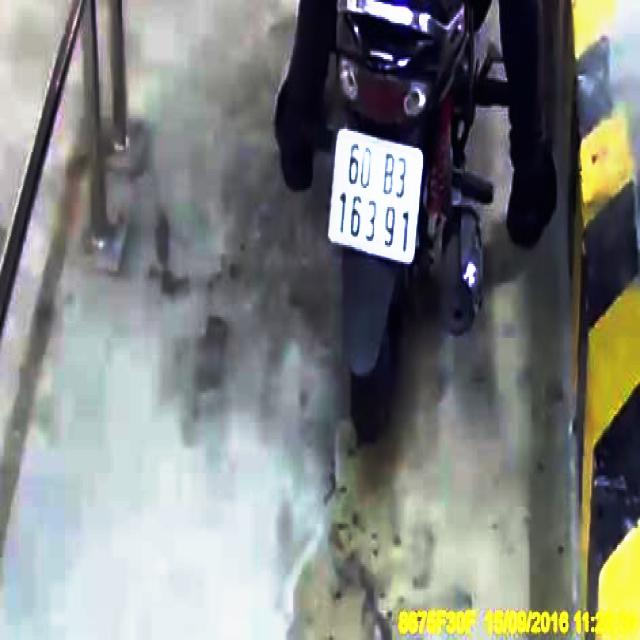license_plate: (330, 132, 419, 263)
